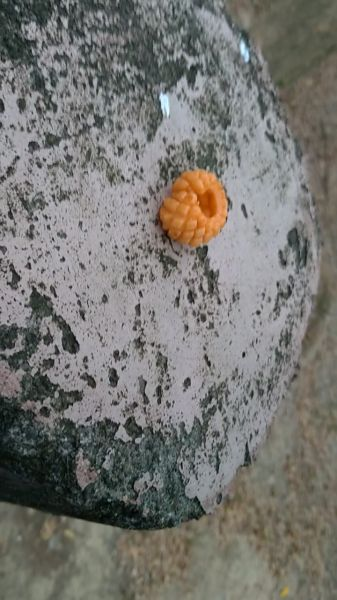eggs: (154, 161, 237, 252)
